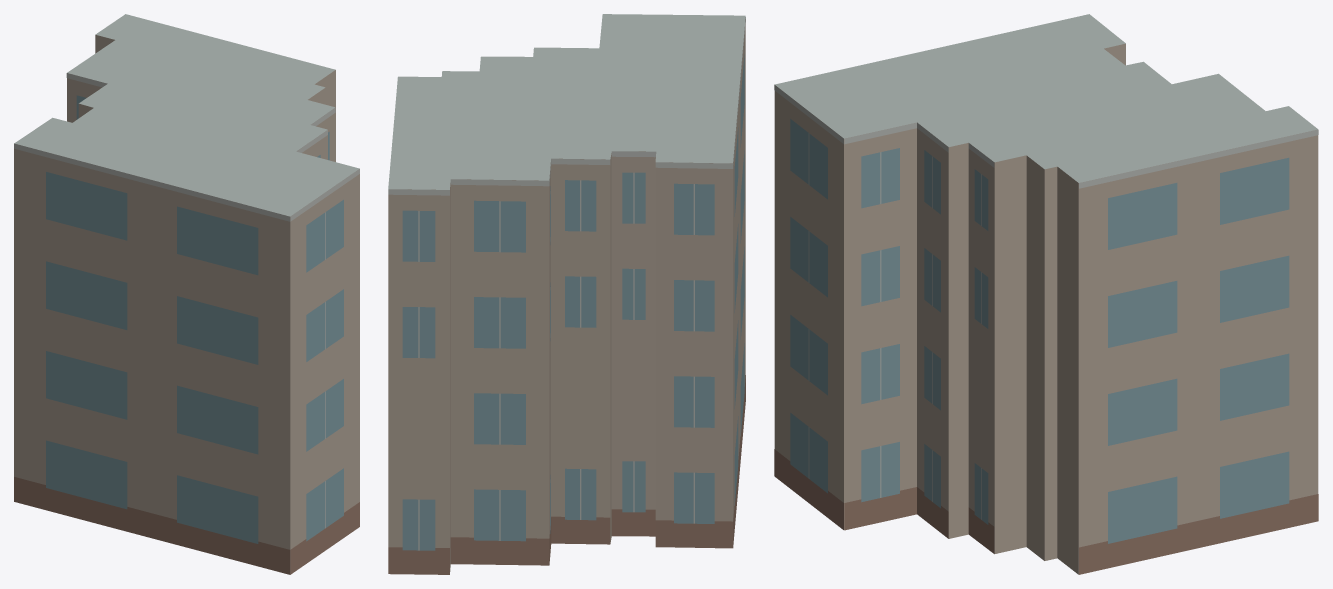
Rendered from survey-upis-33026895.glb.
3 views of the same model, side by side, from view 1: azimuth 30°, elevation 25°; view 2: azimuth 150°, elevation 25°; view 3: azimuth 270°, elevation 25° (orthographic). The views are drawn at different scales.
Parts seen in each view (by area): view 1: survey-upis-33026895.tmp; view 2: survey-upis-33026895.tmp; view 3: survey-upis-33026895.tmp.
Part boxes in pixels (left/top/right/bottom): survey-upis-33026895.tmp: left=14, top=14, right=359, bottom=574; survey-upis-33026895.tmp: left=388, top=14, right=745, bottom=574; survey-upis-33026895.tmp: left=774, top=14, right=1318, bottom=574.
Bounding box in the file's own units: 15.46 × 16.7 × 21.02.
